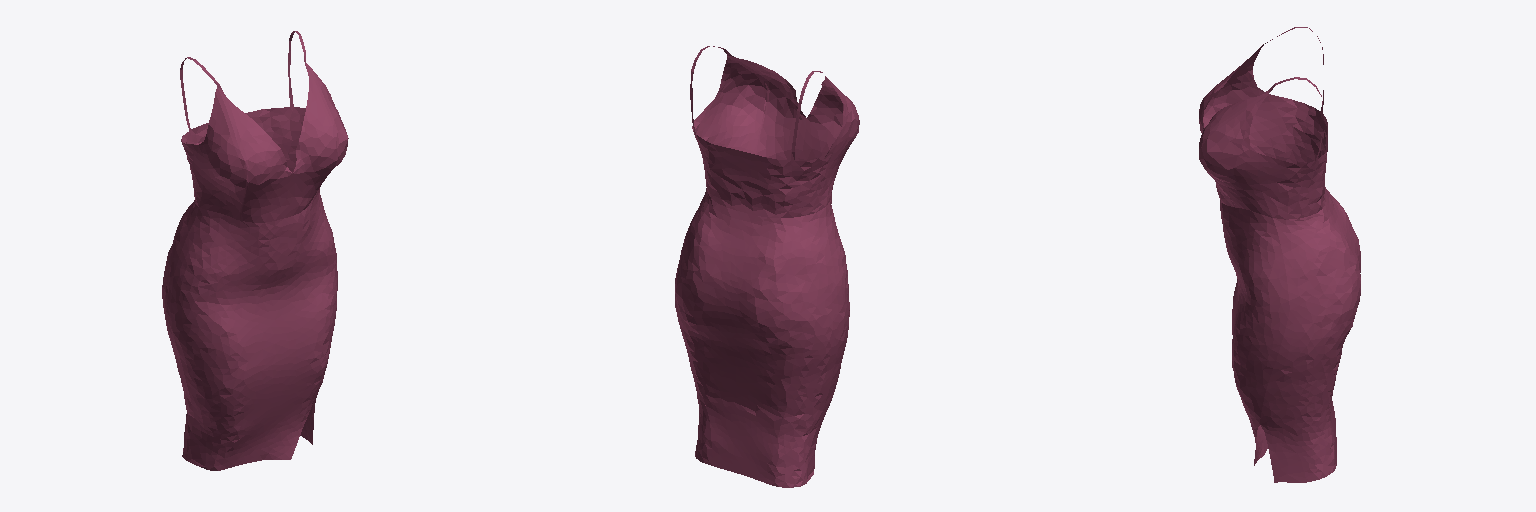
The picture shows the model from 3 angles: view 1: azimuth 30°, elevation 25°; view 2: azimuth 150°, elevation 25°; view 3: azimuth 270°, elevation 25°; orthographic projection.
Parts seen in each view (by area): view 1: large_roseDress_noinside_resize:polySurface2 large_roseDress_noi; view 2: large_roseDress_noinside_resize:polySurface2 large_roseDress_noi; view 3: large_roseDress_noinside_resize:polySurface2 large_roseDress_noi.
Boxes of the visible parts, x1,y1,x2,y2 form: large_roseDress_noinside_resize:polySurface2 large_roseDress_noi: [162, 31, 348, 470]; large_roseDress_noinside_resize:polySurface2 large_roseDress_noi: [675, 46, 859, 487]; large_roseDress_noinside_resize:polySurface2 large_roseDress_noi: [1199, 27, 1360, 482].
Bounding box in the file's own units: 3.83 × 9.45 × 3.43.
Materials: 9 (1 with a texture image).